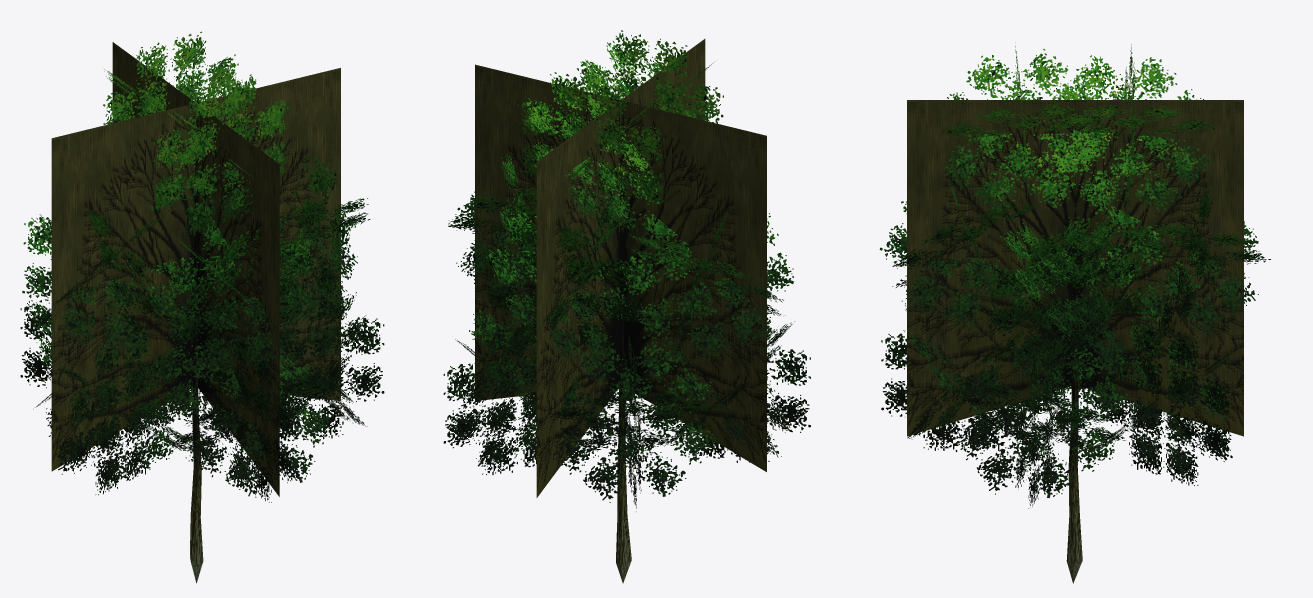
File: iep_1.fbx
3 views of the same model, side by side, from view 1: azimuth 30°, elevation 25°; view 2: azimuth 150°, elevation 25°; view 3: azimuth 270°, elevation 25° (orthographic).
Visible parts, largest first — view 1: iep_1; view 2: iep_1; view 3: iep_1.
Part boxes in pixels (<box>): iep_1: <box>20,31,384,583</box>; iep_1: <box>443,30,810,583</box>; iep_1: <box>879,42,1270,583</box>.
Bounding box in the file's own units: 442 × 581 × 442.
